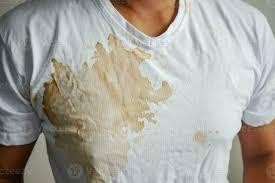coffee: (43, 50, 158, 183), (193, 130, 209, 146)
